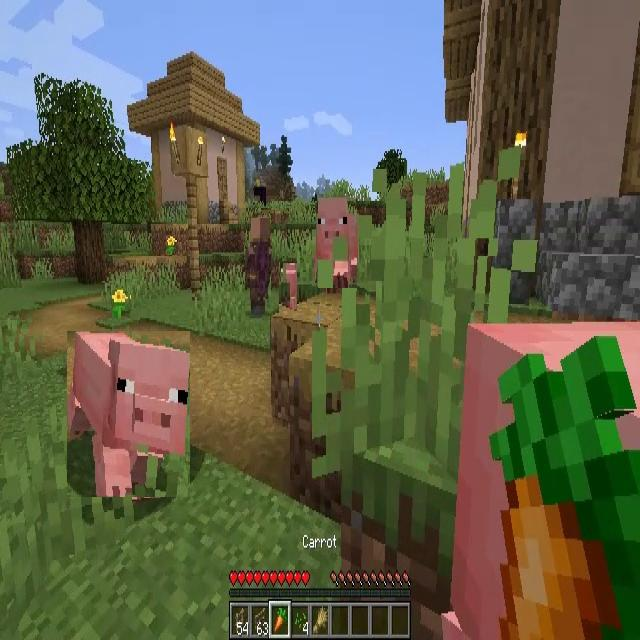flower: (112, 288, 130, 322), (166, 236, 178, 255)
people: (246, 218, 272, 314)
pig: (67, 332, 190, 498), (318, 198, 358, 288), (280, 262, 298, 311)
